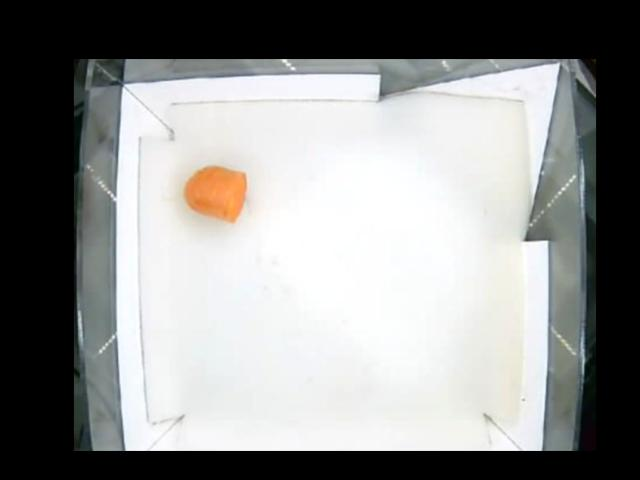Carrot: (184, 165, 248, 220)
